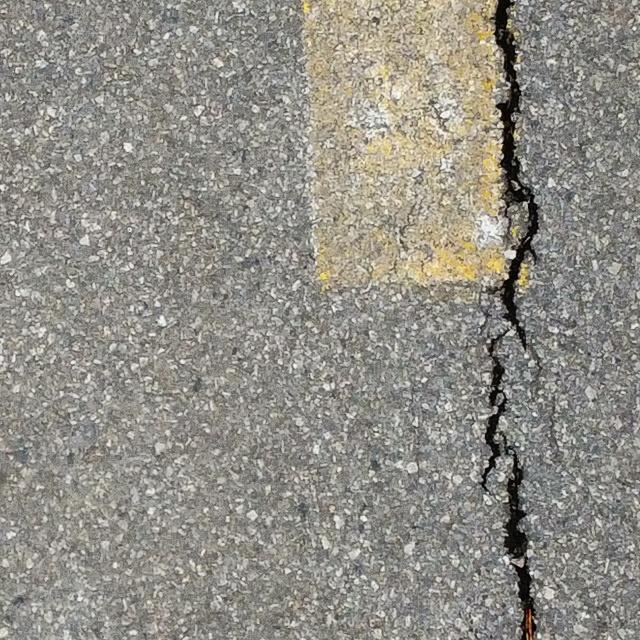LongitudinalCrack: (484, 1, 543, 637)
